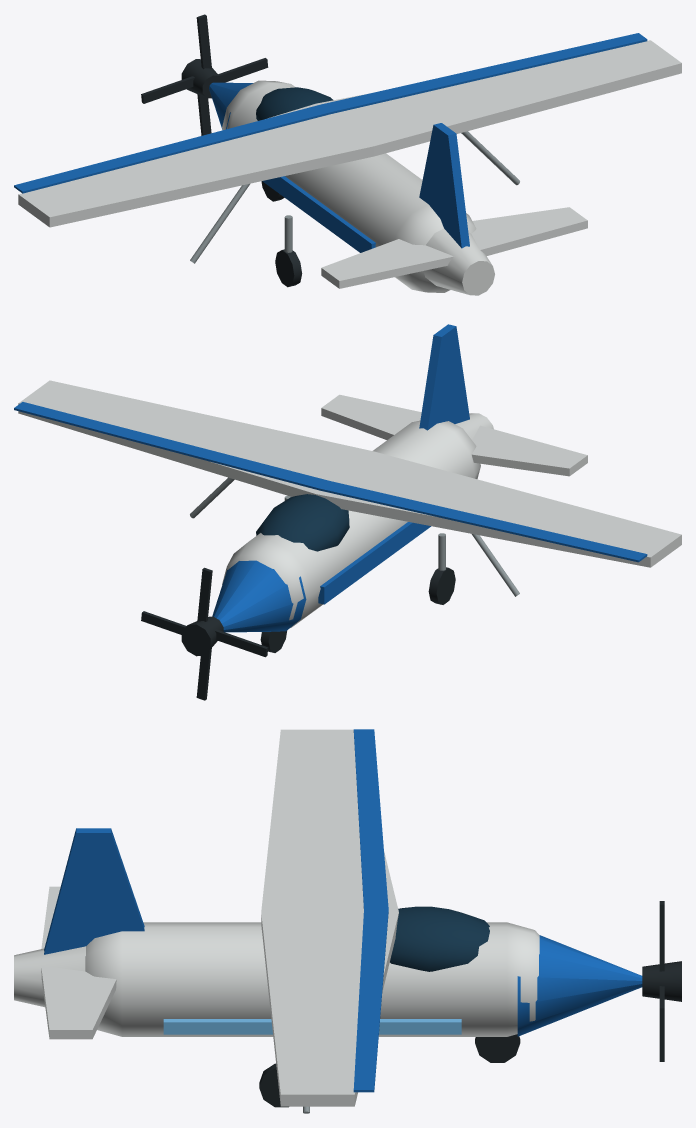
Rendered from bluejay-backup1.glb.
3 renders of one model, top to bottom at view 1: azimuth 30°, elevation 25°; view 2: azimuth 150°, elevation 25°; view 3: azimuth 270°, elevation 25°, orthographic. The views are drawn at different scales.
Visible parts, largest first — view 1: AC_LIVERY_BASE, AC_LIVERY_PRIMARY, Propeller_Main_Blades, AC_GLASS, AC_METAL, AC_DARK; view 2: AC_LIVERY_BASE, AC_LIVERY_PRIMARY, AC_GLASS, Propeller_Main_Blades, AC_DARK, AC_METAL; view 3: AC_LIVERY_BASE, AC_LIVERY_PRIMARY, AC_GLASS, AC_LIVERY_ACCENT, Propeller_Main_Blades, AC_DARK.
Part boxes in pixels (bbox=[...]): AC_LIVERY_BASE: bbox=[18, 40, 681, 295]; AC_LIVERY_PRIMARY: bbox=[14, 33, 647, 252]; Propeller_Main_Blades: bbox=[141, 14, 268, 135]; AC_GLASS: bbox=[256, 87, 333, 120]; AC_METAL: bbox=[190, 131, 519, 263]; AC_DARK: bbox=[261, 181, 302, 287]; AC_LIVERY_BASE: bbox=[18, 380, 681, 627]; AC_LIVERY_PRIMARY: bbox=[14, 324, 647, 632]; AC_GLASS: bbox=[256, 494, 349, 551]; Propeller_Main_Blades: bbox=[141, 567, 268, 700]; AC_DARK: bbox=[260, 567, 455, 652]; AC_METAL: bbox=[190, 477, 519, 596]; AC_LIVERY_BASE: bbox=[14, 729, 539, 1106]; AC_LIVERY_PRIMARY: bbox=[44, 729, 642, 1092]; AC_GLASS: bbox=[390, 906, 489, 971]; AC_LIVERY_ACCENT: bbox=[163, 1019, 461, 1034]; Propeller_Main_Blades: bbox=[642, 901, 681, 1061]; AC_DARK: bbox=[259, 1034, 520, 1107].
Size of the model in its own units: 8.4 by 2.47 by 6.5.
